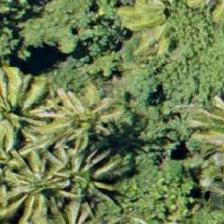Kelapa_Sawit: (46, 77, 136, 167), (41, 139, 131, 224), (0, 147, 85, 224), (121, 0, 211, 60), (0, 71, 57, 161)
